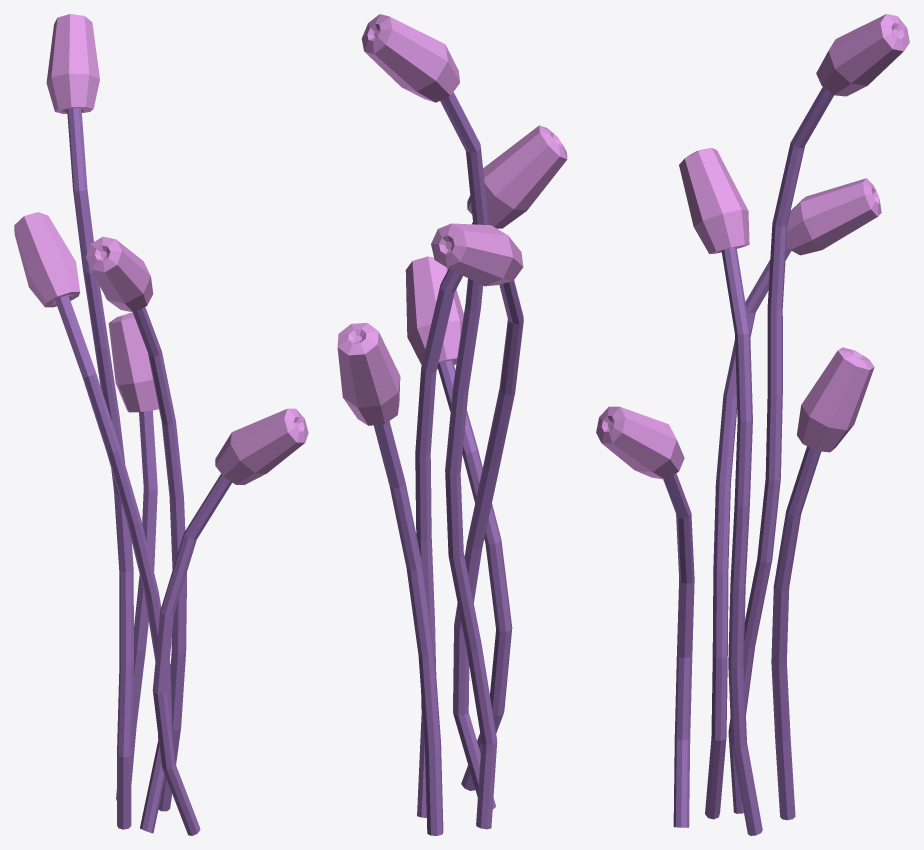
File: Gras_01_Var_02.fbx
3 renders of one model, left to right at view 1: azimuth 30°, elevation 25°; view 2: azimuth 150°, elevation 25°; view 3: azimuth 270°, elevation 25°, orthographic. The views are drawn at different scales.
Parts seen in each view (by area): view 1: Gras_01_Var_02; view 2: Gras_01_Var_02; view 3: Gras_01_Var_02.
Part boxes in pixels (x1,y1,x2,y2): Gras_01_Var_02: (14,14,308,835); Gras_01_Var_02: (337,14,567,835); Gras_01_Var_02: (596,14,909,835).
Size of the model in its own units: 0.1736 by 0.4918 by 0.1256.
